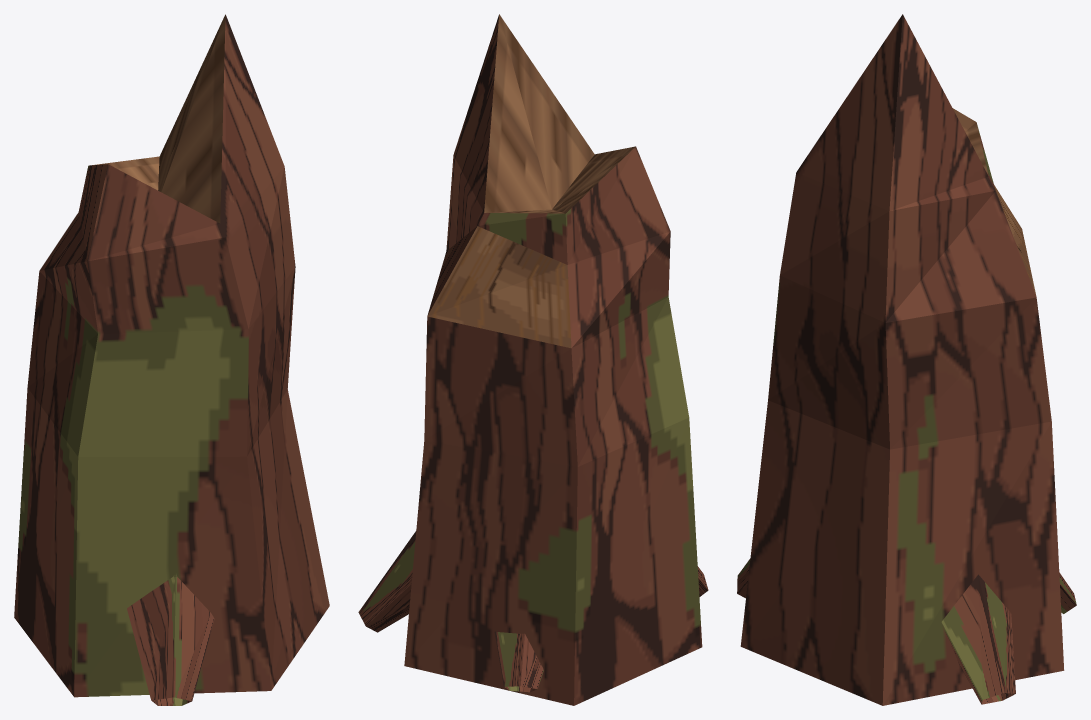
The model's file is SM_DW06_StumpTall.fbx.
The picture shows the model from 3 angles, left to right: view 1: azimuth 30°, elevation 25°; view 2: azimuth 150°, elevation 25°; view 3: azimuth 270°, elevation 25°; orthographic projection. The views are drawn at different scales.
Visible parts, largest first — view 1: DW06_Bark, DW06_Wood; view 2: DW06_Bark, DW06_Wood; view 3: DW06_Bark, DW06_Wood.
Boxes of the visible parts, left/top/right/bottom form: DW06_Bark: left=14, top=15, right=329, bottom=705; DW06_Wood: left=89, top=14, right=225, bottom=223; DW06_Bark: left=358, top=14, right=708, bottom=705; DW06_Wood: left=427, top=14, right=635, bottom=347; DW06_Bark: left=737, top=14, right=1076, bottom=705; DW06_Wood: left=952, top=108, right=1036, bottom=296.
Size of the model in its own units: 0.6268 by 1.35 by 0.6333.
